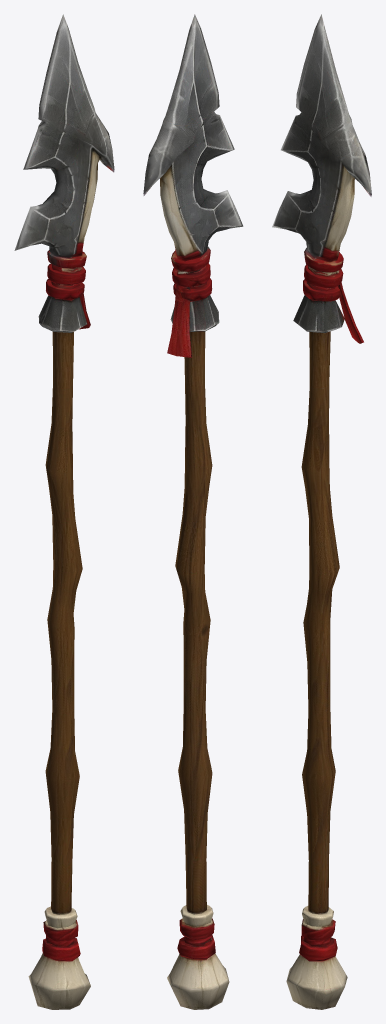
The model's file is lanza-orca.glb.
3 views of the same model, side by side, from view 1: azimuth 30°, elevation 25°; view 2: azimuth 210°, elevation 25°; view 3: azimuth 330°, elevation 25° (orthographic).
Visible parts, largest first — view 1: 0; view 2: 0; view 3: 0.
Part boxes in pixels (x1,y1,x2,y2): 0: (14, 14, 114, 1009); 0: (143, 14, 243, 1009); 0: (272, 14, 371, 1009).
Size of the model in its own units: 0.2212 by 2.1 by 0.1213.
Materials: 1 (1 with a texture image).
